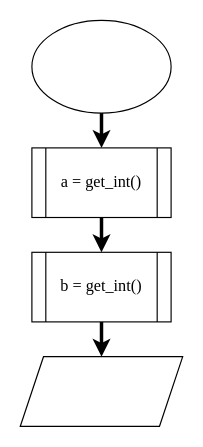
Some shapes in this 203 by 447 pixel diagram are drawn without their labels. Here are the shapes that lost their labels. From the top down, the box of each, then its label:
(31, 19, 171, 113): Начало
(19, 356, 183, 426): suitable_digits(a, b)
